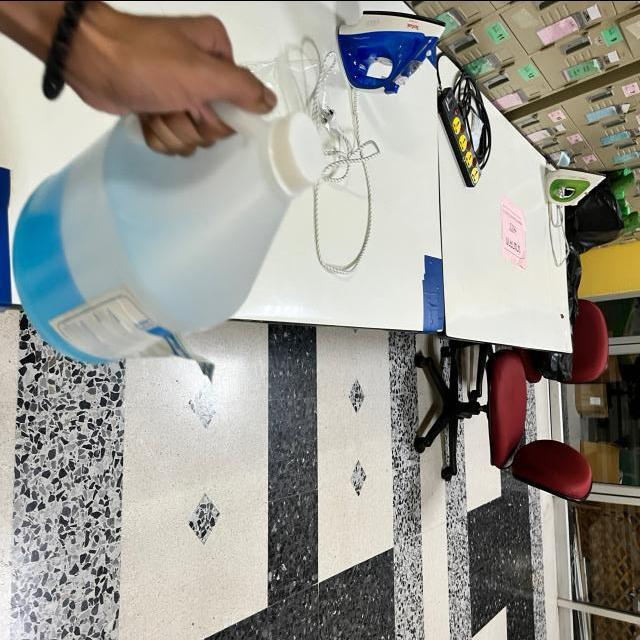HDPE Plastic: (2, 105, 328, 374)
